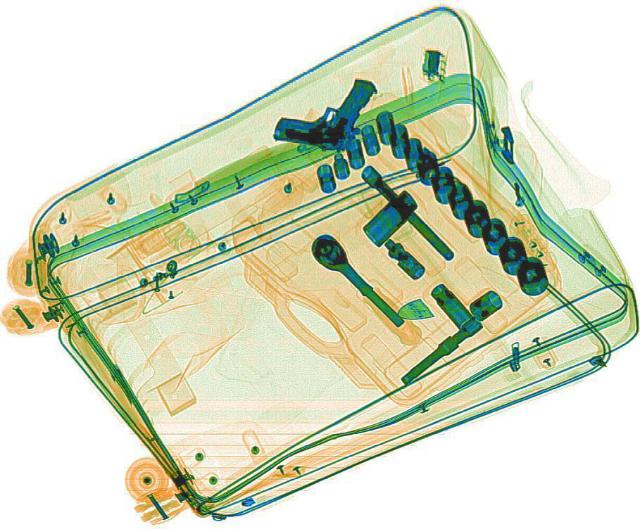Gun: (264, 61, 380, 159)
